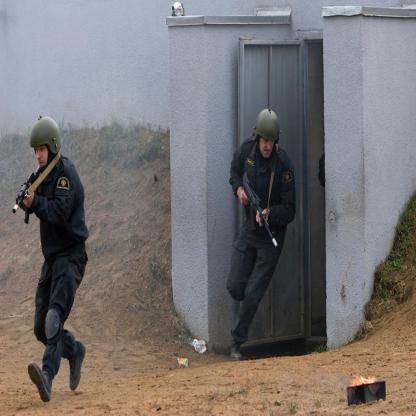face: (35, 143, 50, 171), (260, 134, 275, 159)
